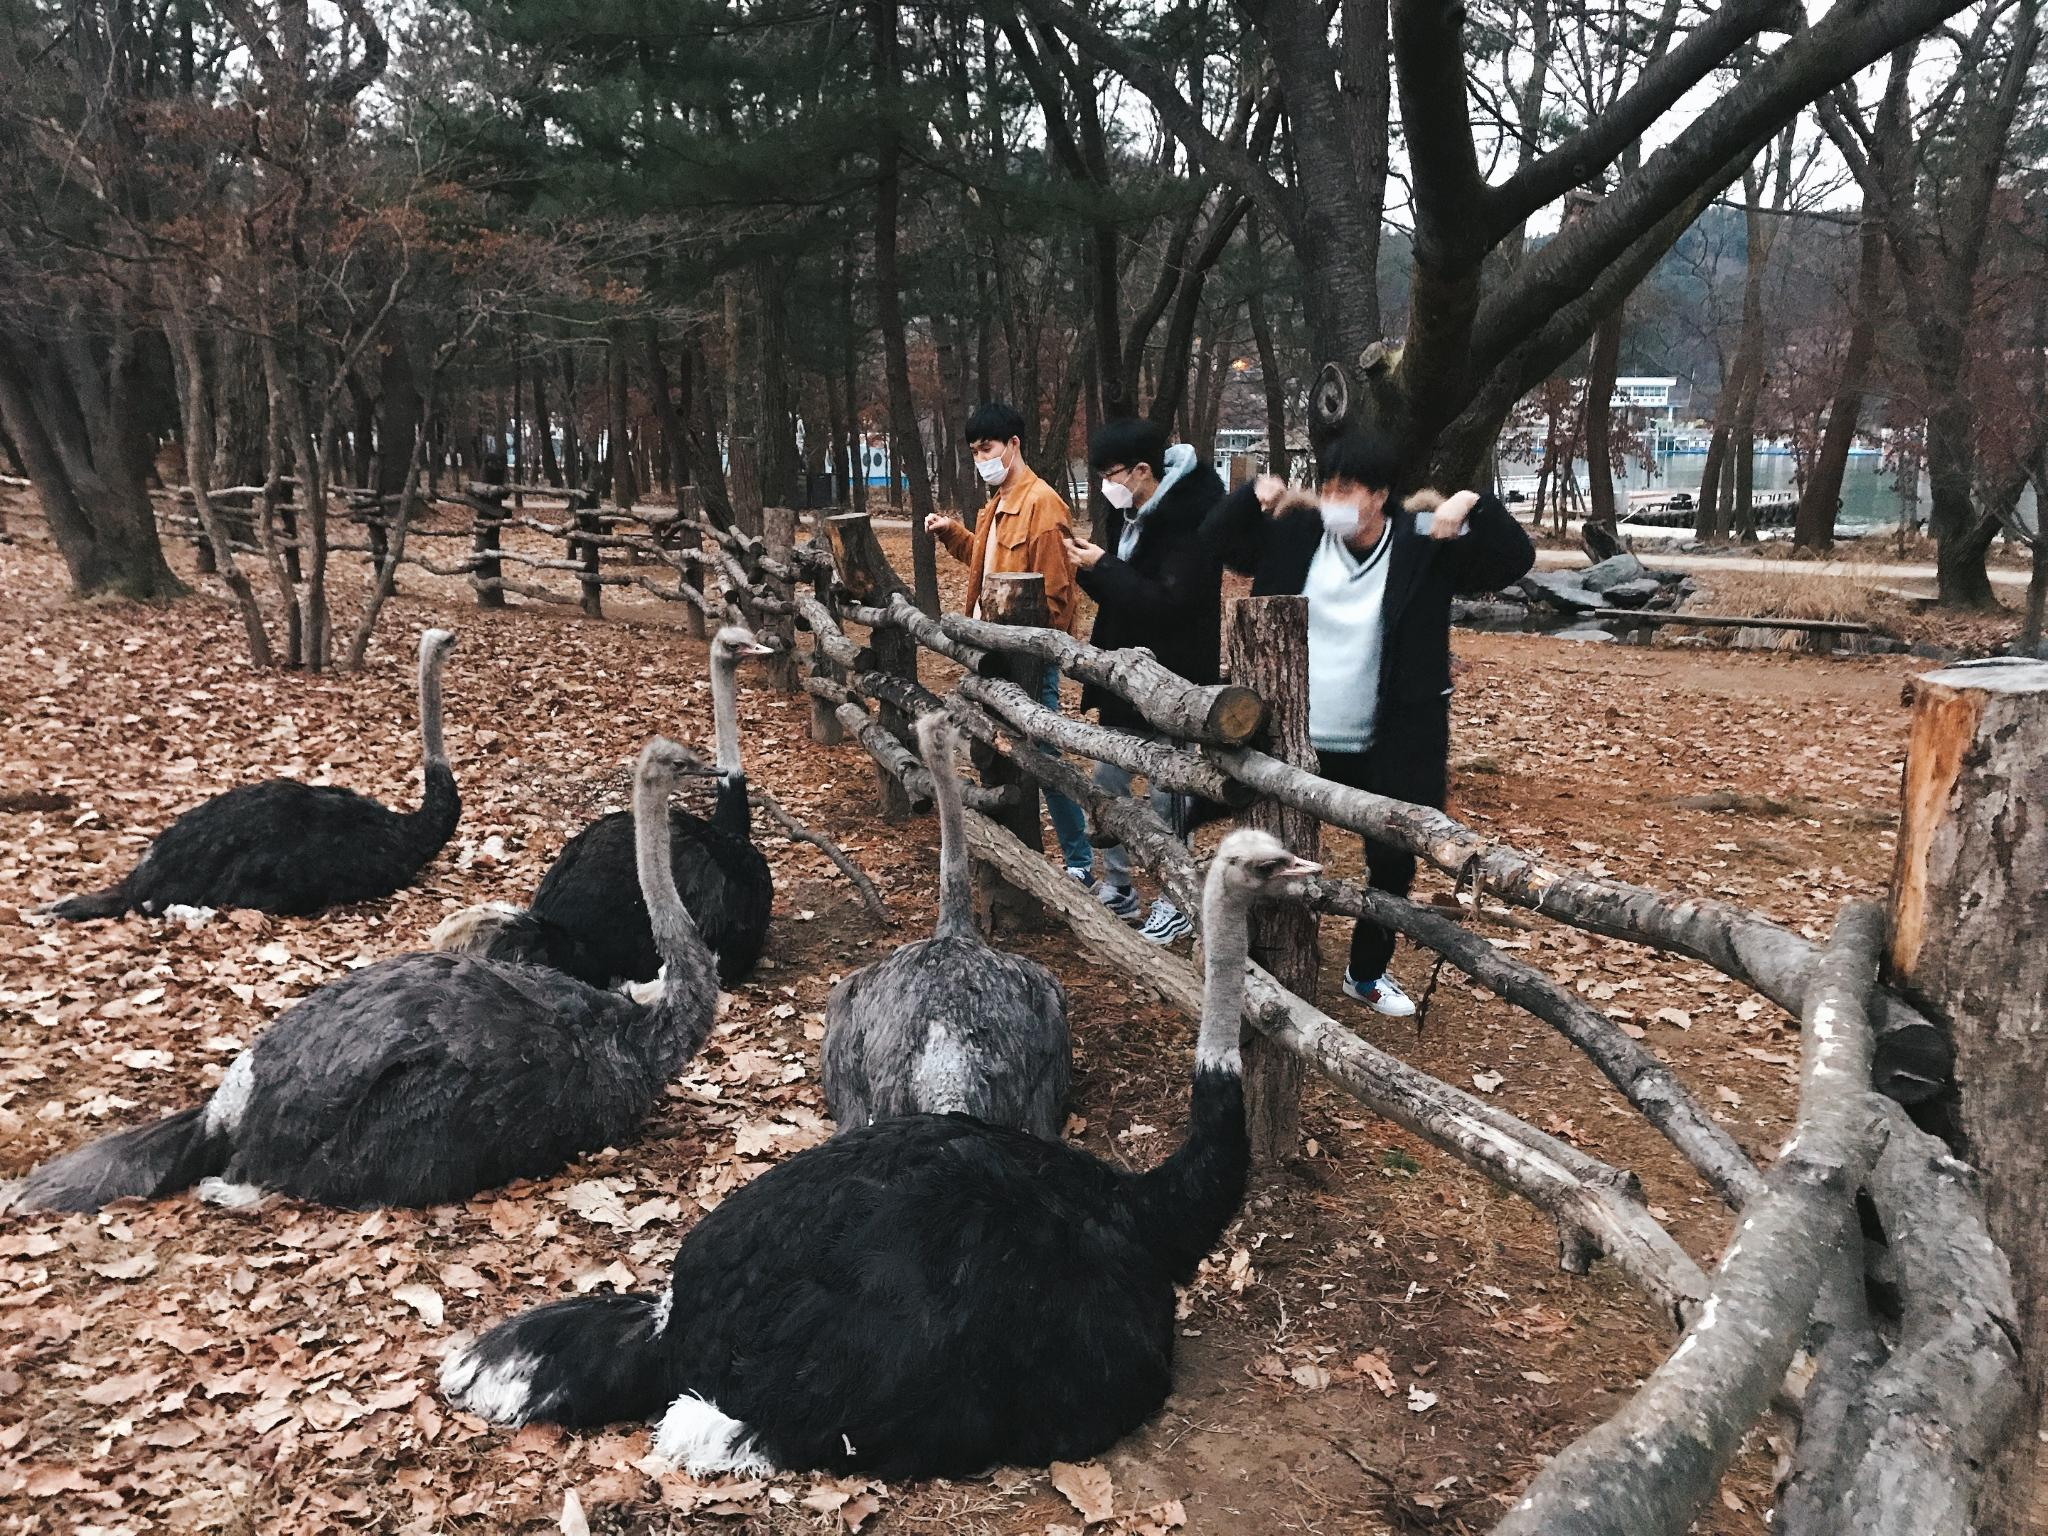ostrich: (439, 826, 1326, 1483), (3, 734, 729, 1217), (27, 624, 463, 925), (426, 624, 777, 994), (819, 708, 1072, 1141)
